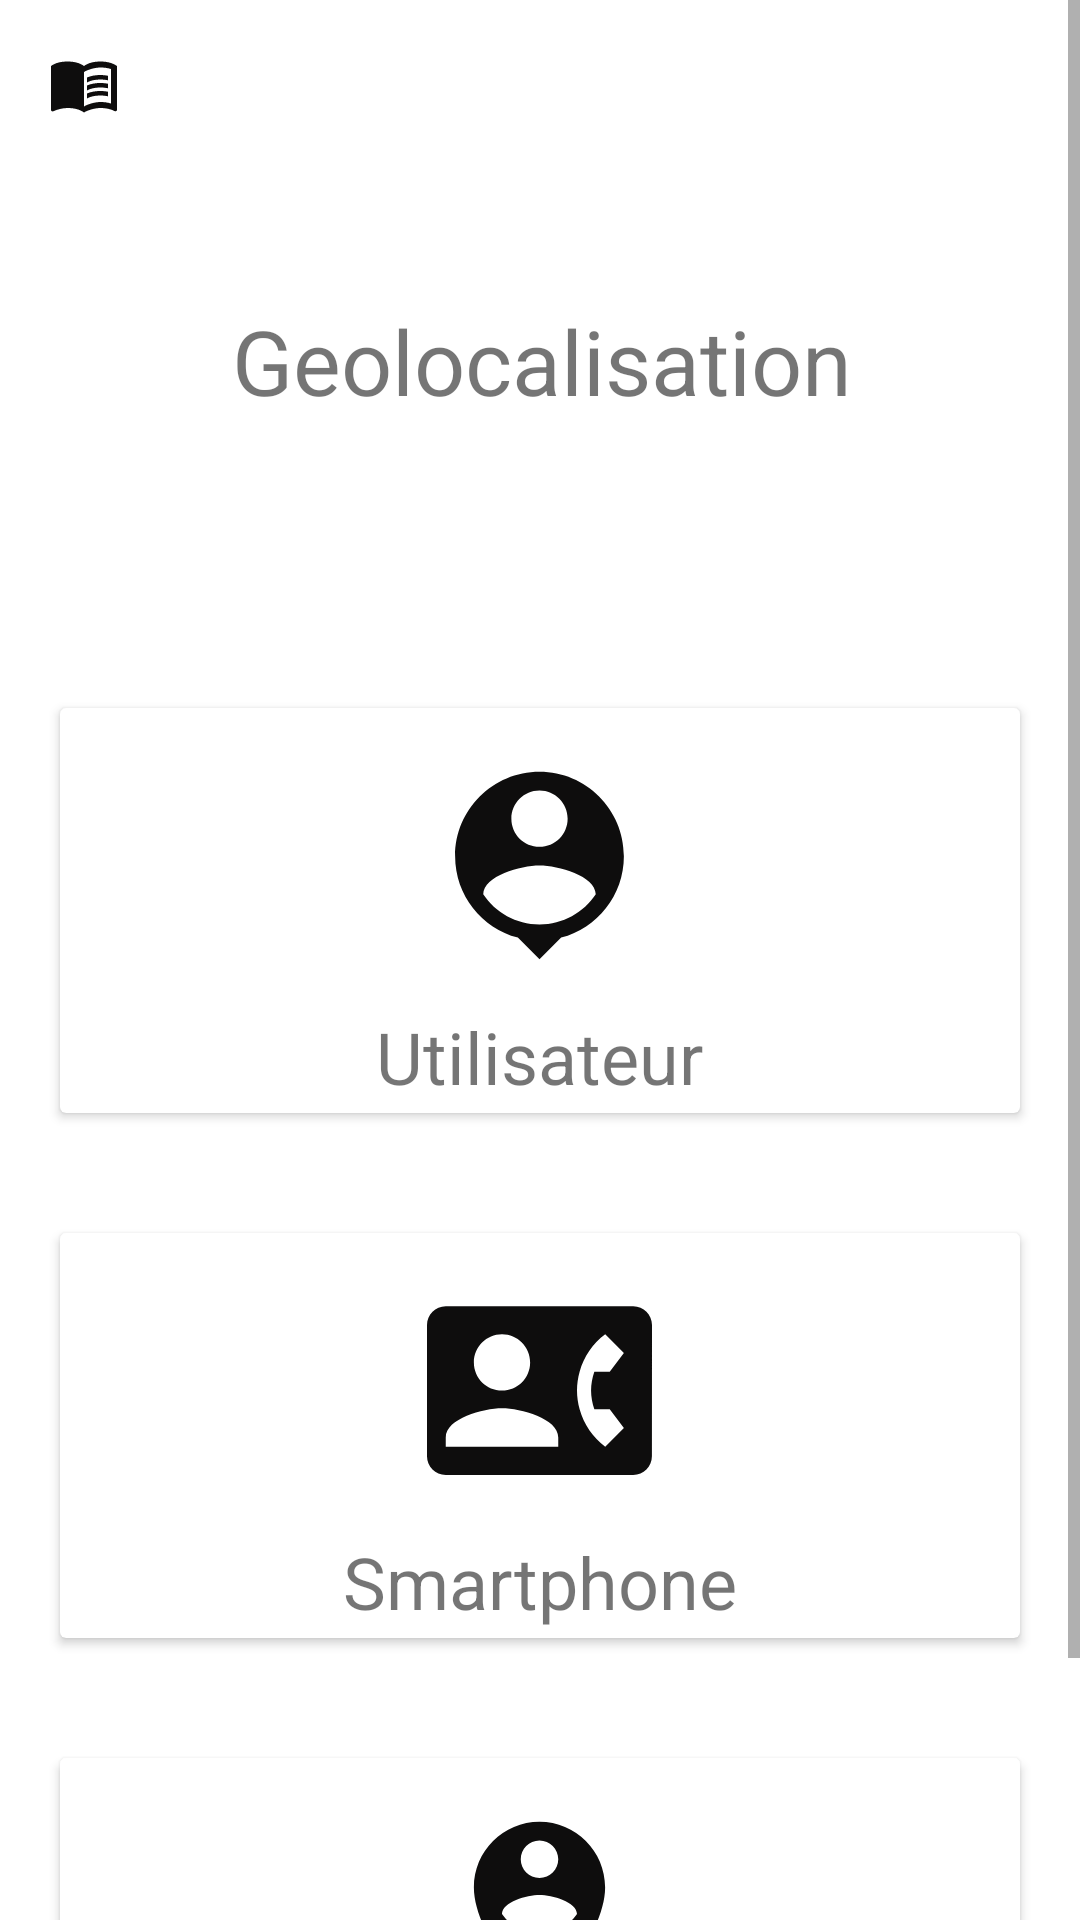

Screen size 1080px×1920px. Icon name, then its center in pixels as (x=x, y=y):
contact phone: (x=539, y=1390)
person pin: (x=539, y=865)
